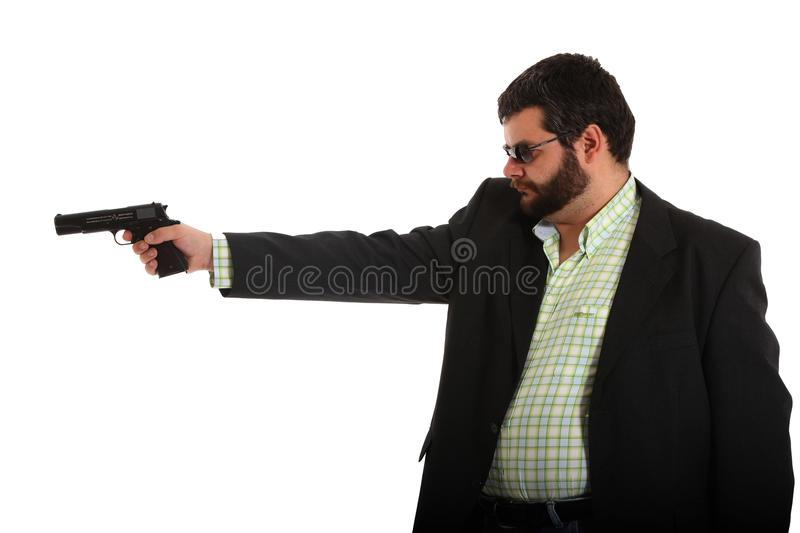criminal: (48, 49, 795, 533)
weapon: (48, 199, 194, 281)
